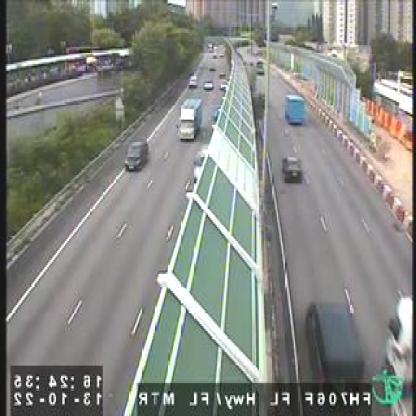Car: (305, 302, 364, 393), (123, 138, 148, 171), (283, 156, 302, 182), (203, 79, 215, 92), (188, 74, 198, 88)
Truck: (176, 94, 200, 141), (284, 95, 304, 125)
